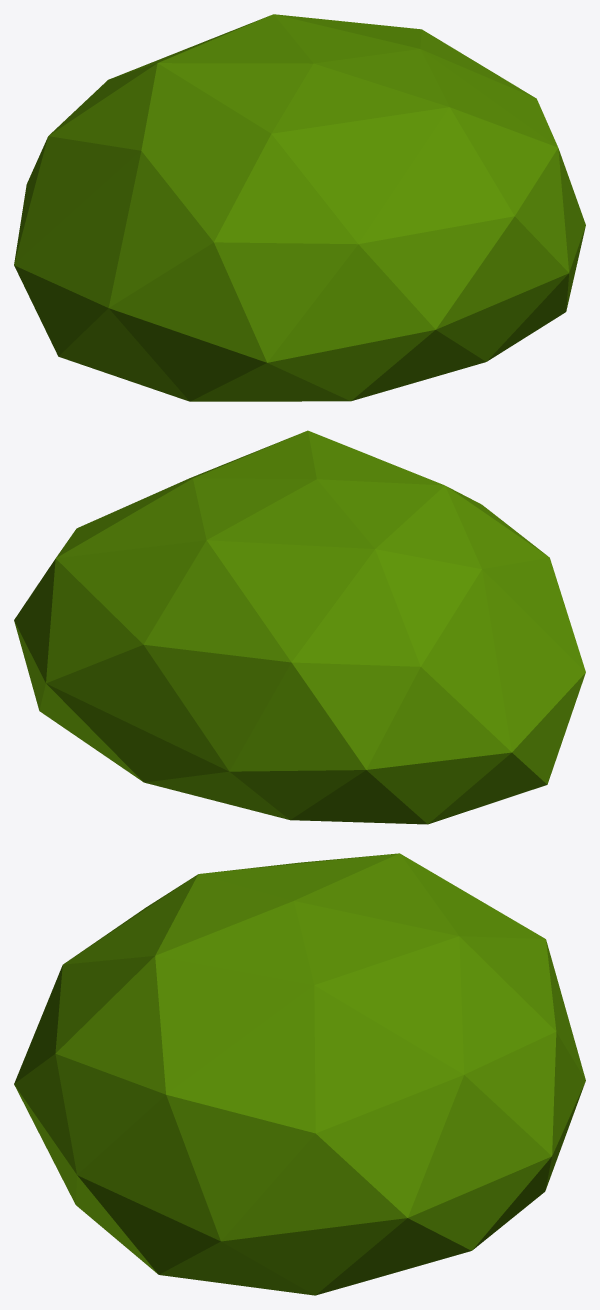
The model's file is bush2.glb.
3 renders of one model, top to bottom at view 1: azimuth 30°, elevation 25°; view 2: azimuth 150°, elevation 25°; view 3: azimuth 270°, elevation 25°, orthographic. The views are drawn at different scales.
Visible parts, largest first — view 1: bush.001; view 2: bush.001; view 3: bush.001.
Boxes of the visible parts, bbox=[...] form: bush.001: bbox=[14, 14, 585, 401]; bush.001: bbox=[14, 430, 585, 824]; bush.001: bbox=[14, 853, 585, 1295].
Size of the model in its own units: 1.83 by 0.9588 by 1.65.
